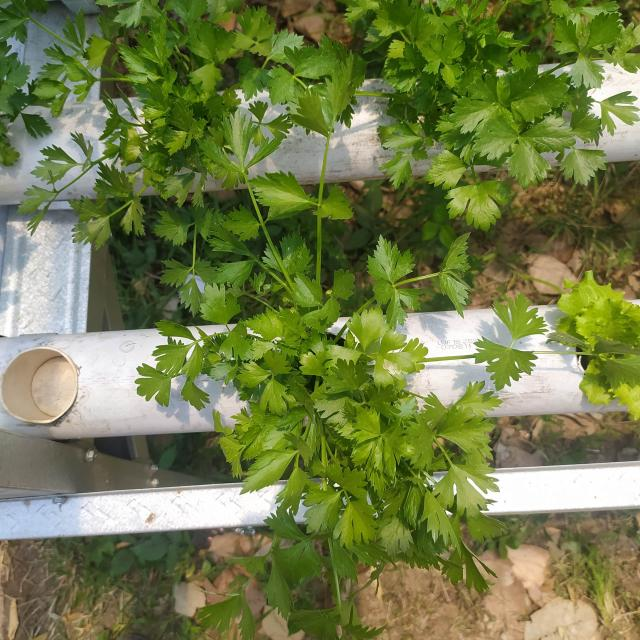Wet Waste: (261, 94, 596, 503), (5, 301, 253, 634), (5, 2, 235, 291)
